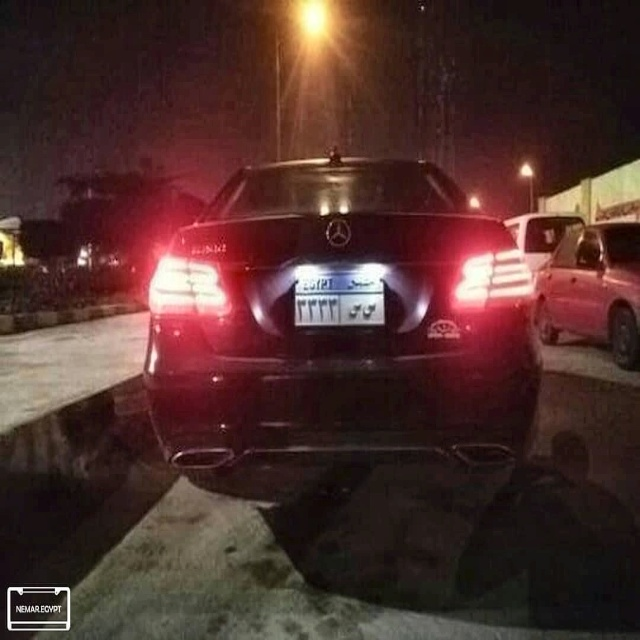License Plate: (293, 269, 386, 329)
